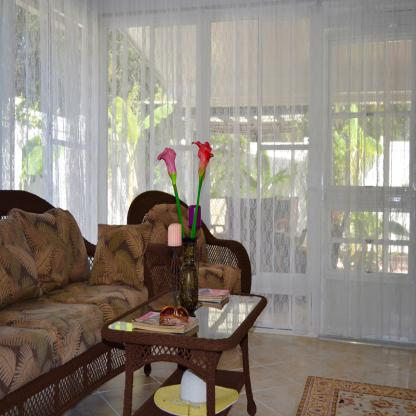bantal: (25, 207, 89, 285), (1, 216, 44, 303), (94, 224, 146, 289)
meja: (98, 285, 268, 416)
sova: (1, 184, 151, 416)
tanaman: (155, 137, 217, 238)
